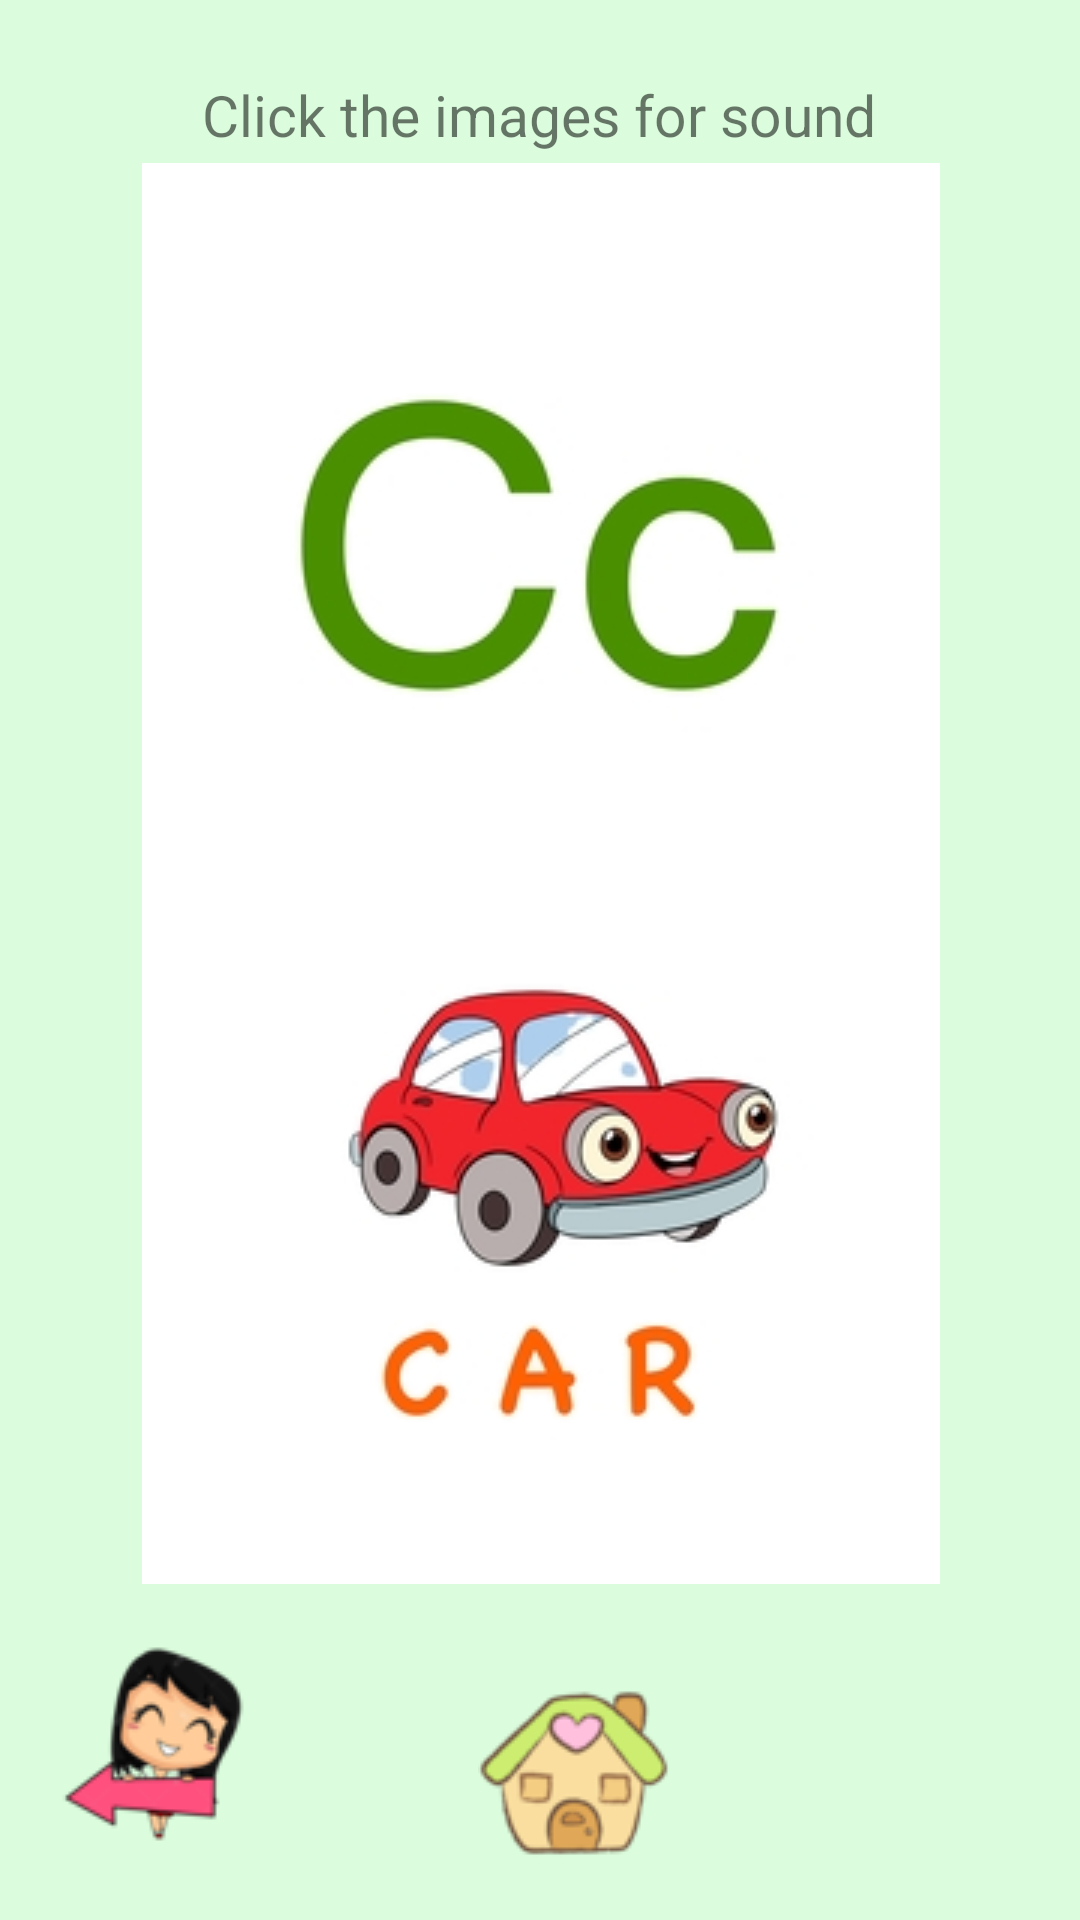

Screen size 1080 × 1920. Icon name, then its box in pixels as (x1, y1, x2, y2):
home: (480, 1691, 668, 1855)
prev: (65, 1647, 243, 1841)
